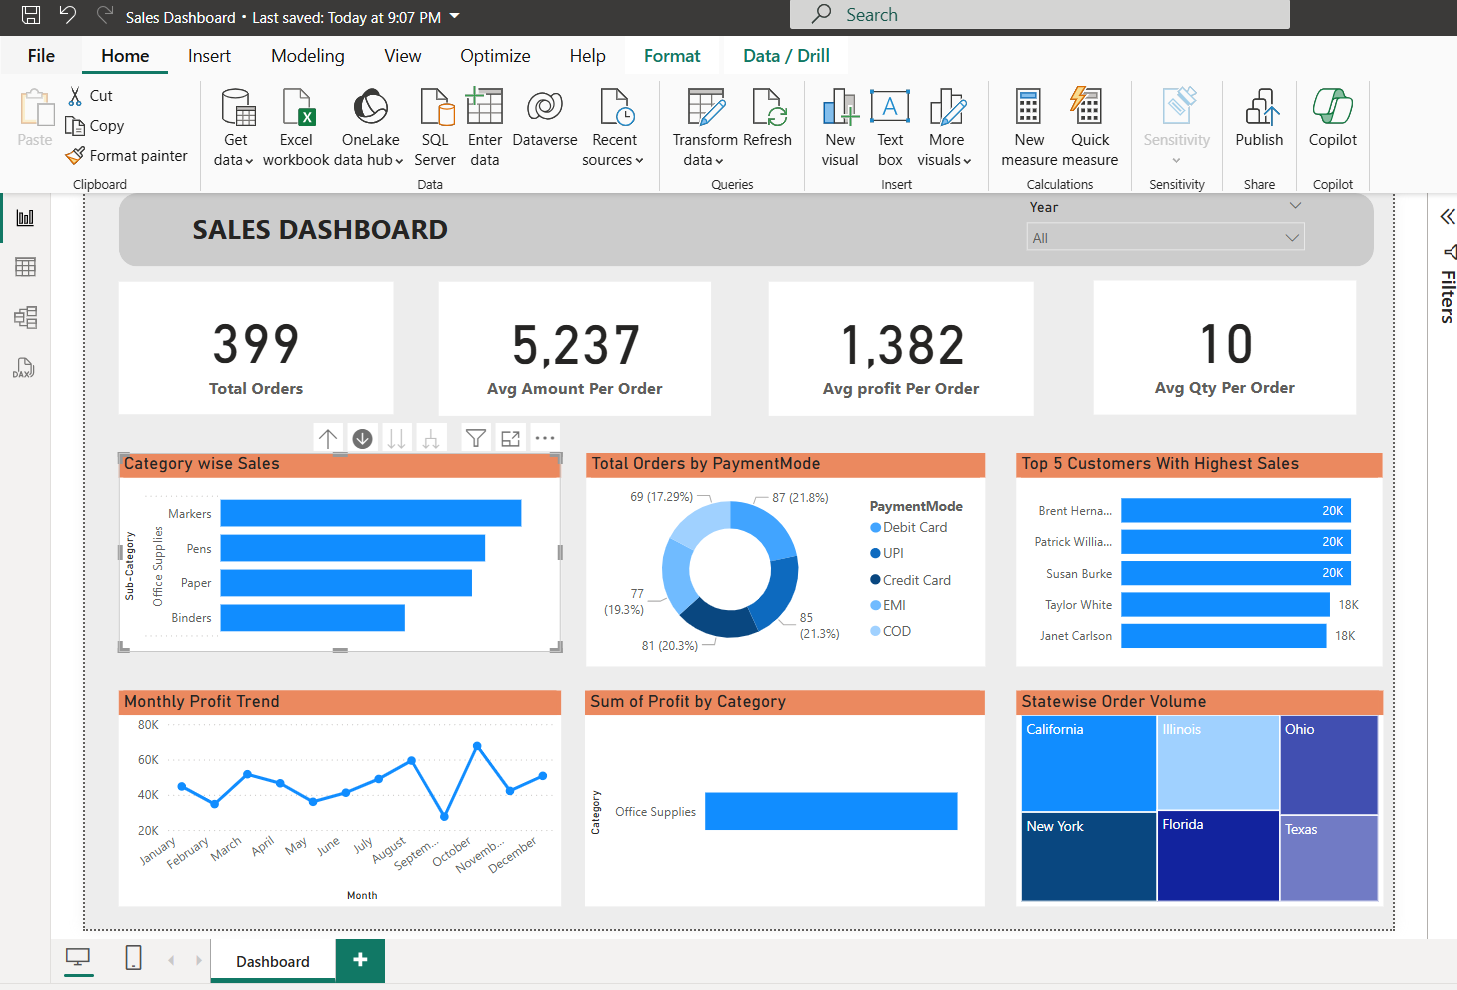

The page's visual inventory and layout, read from the dashboard file:
{"tool":"powerbi","page":{"name":"Dashboard","canvas":[1280,720],"ordinal":0},"visuals":[{"type":"card","fields":{"Values":["Sales Dataset.Total Orders"]},"box":[59.9,86.8,269,129.6],"z":0},{"type":"card","fields":{"Values":["Sales Dataset.Avg Amount Per Order"]},"box":[355.8,86.8,266.6,130.8],"z":1},{"type":"card","fields":{"Values":["Sales Dataset.Avg profit Per Order"]},"box":[668.9,86.8,259.2,130.8],"z":2},{"type":"card","fields":{"Values":["Sales Dataset.Avg Qty Per Order"]},"box":[970.9,86.8,256.8,130.8],"z":3},{"type":"donutChart","fields":{"Category":["Sales Dataset.PaymentMode"],"Y":["Sales Dataset.Total Orders"]},"box":[490.4,254.3,390.1,209.1],"z":4},{"type":"treemap","fields":{"Group":["Sales Dataset.State Hierarchy.State","Sales Dataset.State Hierarchy.City"],"Values":["Sales Dataset.Total Orders"]},"box":[911,486.7,359.5,211.6],"z":5},{"type":"barChart","title":"Category wise Sales","fields":{"Y":["Sum(Sales Dataset.Amount)"],"Category":["Sales Dataset.Category Hierarchy.Category","Sales Dataset.Category Hierarchy.Sub-Category"]},"box":[33,254.3,432.9,194.4],"z":6},{"type":"barChart","fields":{"Category":["Sales Dataset.Category"],"Y":["Sum(Sales Dataset.Profit)"]},"box":[489.1,486.7,391.3,211.6],"z":7},{"type":"lineChart","fields":{"Y":["Sum(Sales Dataset.Profit)"],"Category":["Sales Dataset.Year-Month.Variation.Date Hierarchy.Year"]},"box":[33,486.7,432.9,211.6],"z":8},{"type":"barChart","fields":{"Category":["Sales Dataset.CustomerName"],"Y":["Sum(Sales Dataset.Amount)"]},"box":[911,254.3,358.3,209.1],"z":9}]}

Visuals, with their boxes on the page's 1280x720 design canvas (x1, y1, x2, y2). These are canvas units, not pixel positions in the 1457x990 screenshot, which may show the page scaled, cropped or inside an application window:
card - Sales Dataset.Total Orders: 60,87,329,216
card - Sales Dataset.Avg Amount Per Order: 356,87,622,218
card - Sales Dataset.Avg profit Per Order: 669,87,928,218
card - Sales Dataset.Avg Qty Per Order: 971,87,1228,218
donutChart - Sales Dataset.PaymentMode x Sales Dataset.Total Orders: 490,254,880,463
treemap - Sales Dataset.State Hierarchy.State x Sales Dataset.State Hierarchy.City: 911,487,1270,698
"Category wise Sales" barChart: 33,254,466,449
barChart - Sales Dataset.Category x Sum(Sales Dataset.Profit): 489,487,880,698
lineChart - Sum(Sales Dataset.Profit) x Sales Dataset.Year-Month.Variation.Date Hierarchy.Year: 33,487,466,698
barChart - Sales Dataset.CustomerName x Sum(Sales Dataset.Amount): 911,254,1269,463
